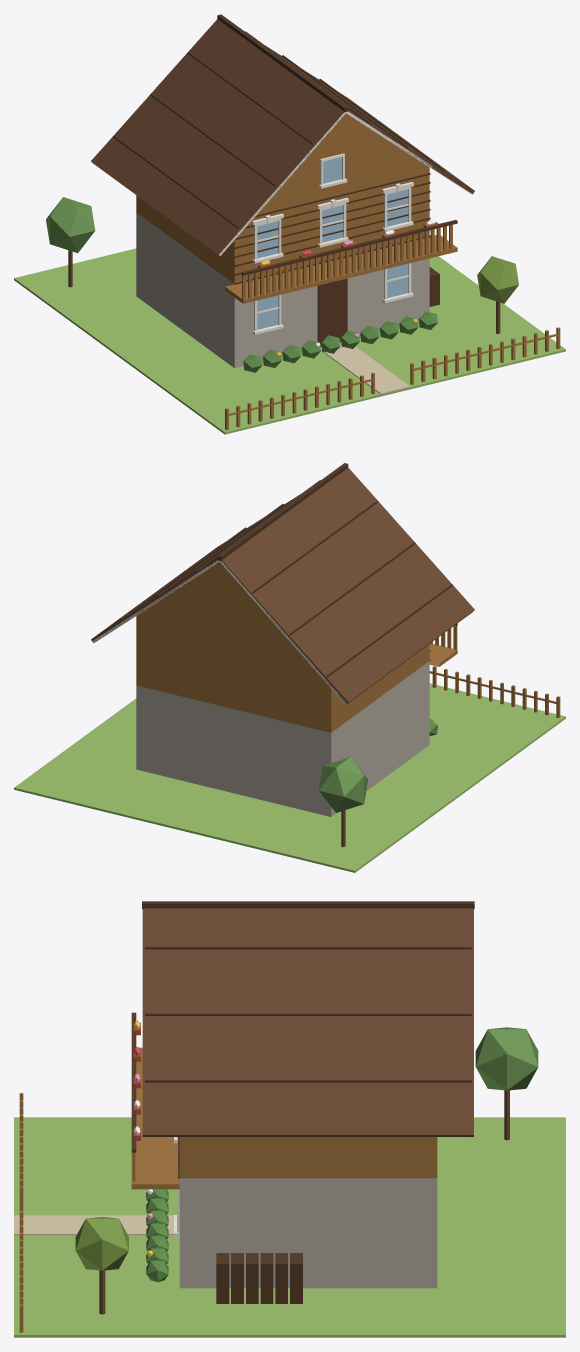
File: Konut_sale_1_Hafif.fbx
3 renders of one model, top to bottom at view 1: azimuth 30°, elevation 25°; view 2: azimuth 150°, elevation 25°; view 3: azimuth 270°, elevation 25°, orthographic. The views are drawn at different scales.
Visible parts, largest first — view 1: Konut_sale_1_Hafif; view 2: Konut_sale_1_Hafif; view 3: Konut_sale_1_Hafif.
Boxes of the visible parts, <box> form: Konut_sale_1_Hafif: <box>14,14,565,434</box>; Konut_sale_1_Hafif: <box>14,463,565,872</box>; Konut_sale_1_Hafif: <box>14,901,565,1337</box>.
Bounding box in the file's own units: 14 × 9.78 × 15.
